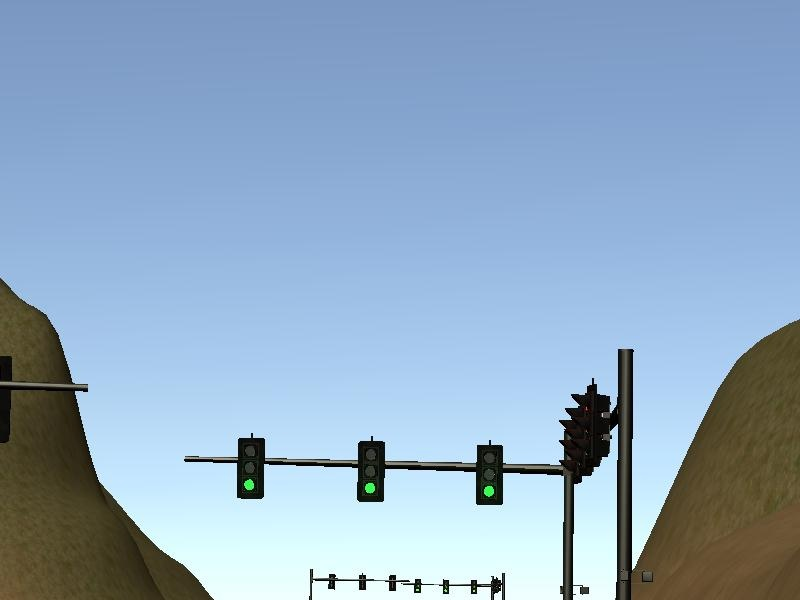GREEN: (357, 439, 385, 504), (237, 437, 265, 497), (475, 446, 503, 505)
